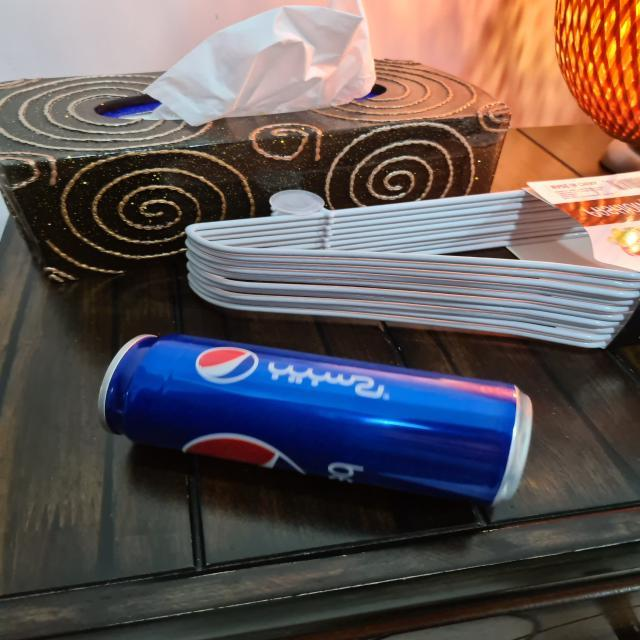can: (97, 335, 528, 498)
